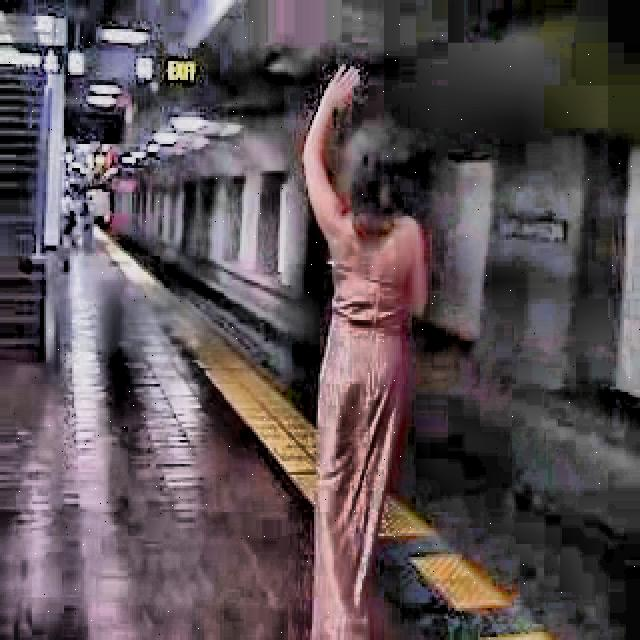L: (284, 63, 438, 633)
